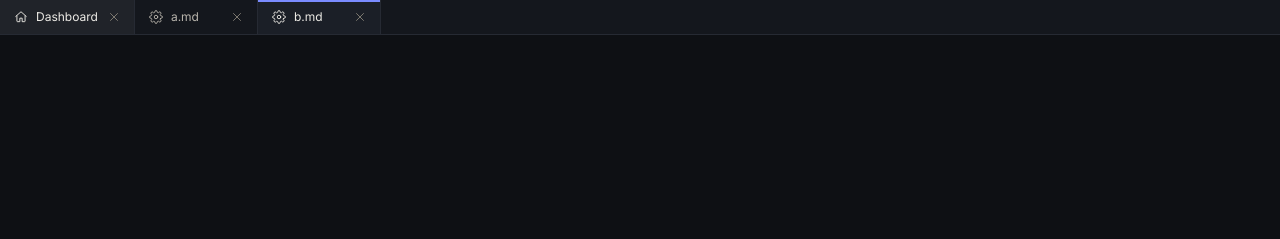
it: tab context menu (TAB-FR-32 / TAB-FR-33 / TAB-FR-39) › closes after an entry is chosen
Right-click the tab "a.md".
right_click(196, 17)  # box x1=135 y1=0 x2=258 y2=34
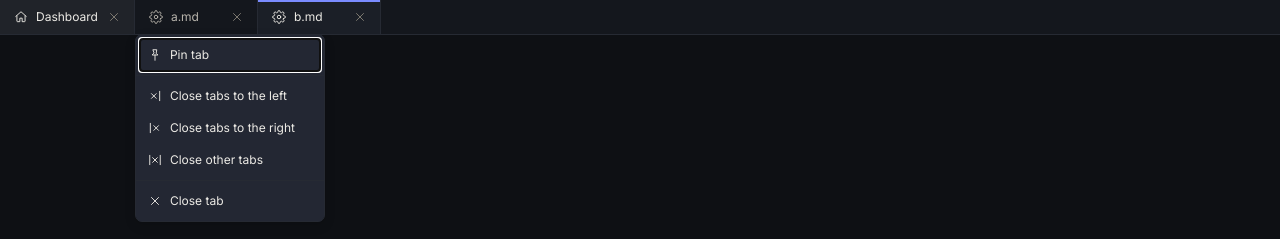
Click the menu item with test id "tabmenu-others".
click(205, 160)  # box x1=148 y1=152 x2=263 y2=167
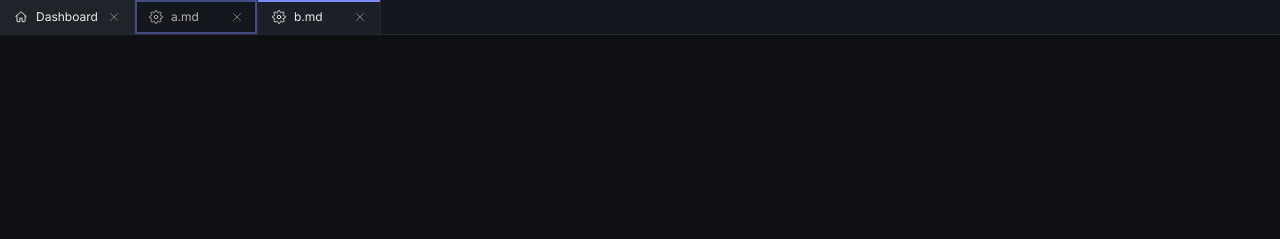
Now the menu with test id "tab-context-menu" is gone
